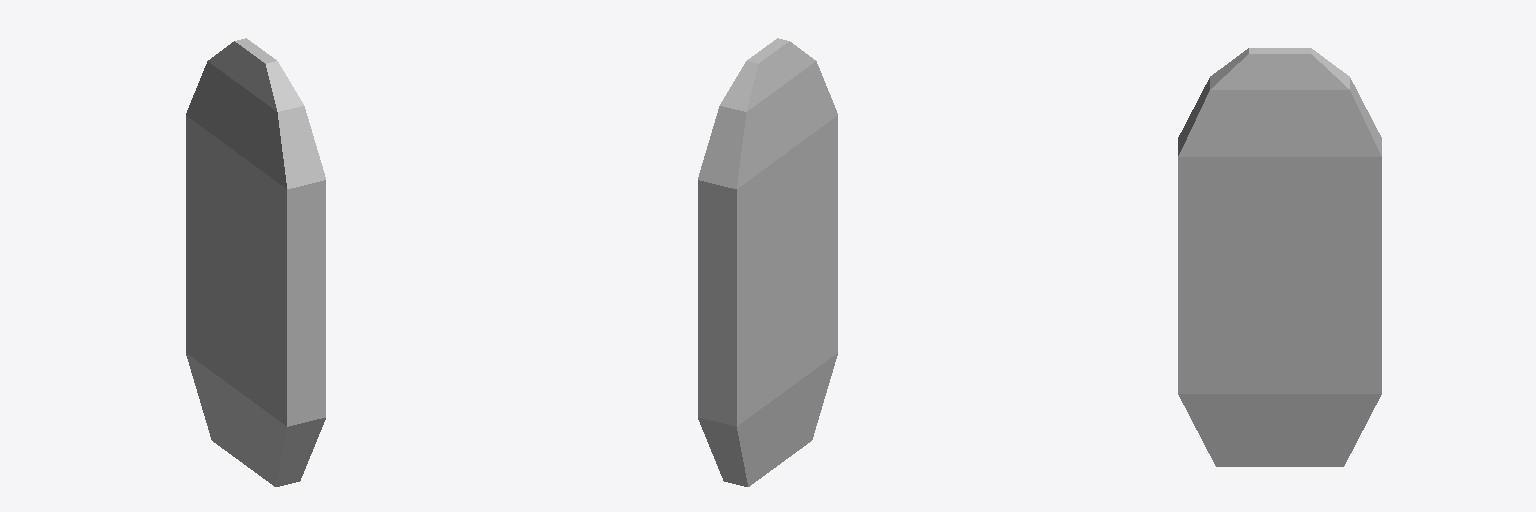
The model's file is petal2.obj.
The picture shows the model from 3 angles: view 1: azimuth 30°, elevation 25°; view 2: azimuth 150°, elevation 25°; view 3: azimuth 270°, elevation 25°; orthographic projection.
Visible parts, largest first — view 1: Cube; view 2: Cube; view 3: Cube.
Part boxes in pixels (x1,y1,x2,y2): Cube: (186, 38, 325, 486); Cube: (698, 38, 837, 486); Cube: (1178, 48, 1381, 466).
Bounding box in the file's own units: 0.04 × 0.4 × 0.18.